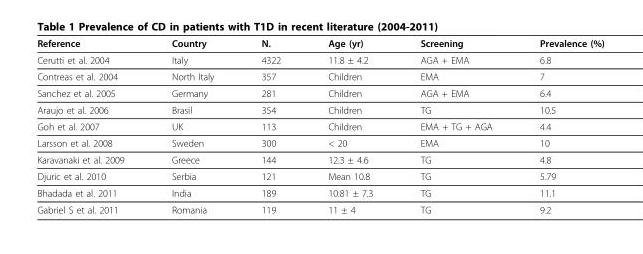table: (36, 37, 603, 214)
table column: (395, 37, 515, 214), (36, 37, 147, 214), (303, 37, 395, 214), (147, 37, 237, 214), (515, 37, 603, 214), (237, 37, 303, 214)
table column header: (36, 37, 603, 51)
table row: (36, 67, 603, 84), (36, 84, 603, 101), (36, 117, 603, 134), (36, 134, 603, 151), (36, 167, 603, 184), (36, 51, 603, 67), (36, 101, 603, 117), (36, 151, 603, 167), (36, 184, 603, 200), (36, 37, 603, 51), (36, 200, 603, 214)
